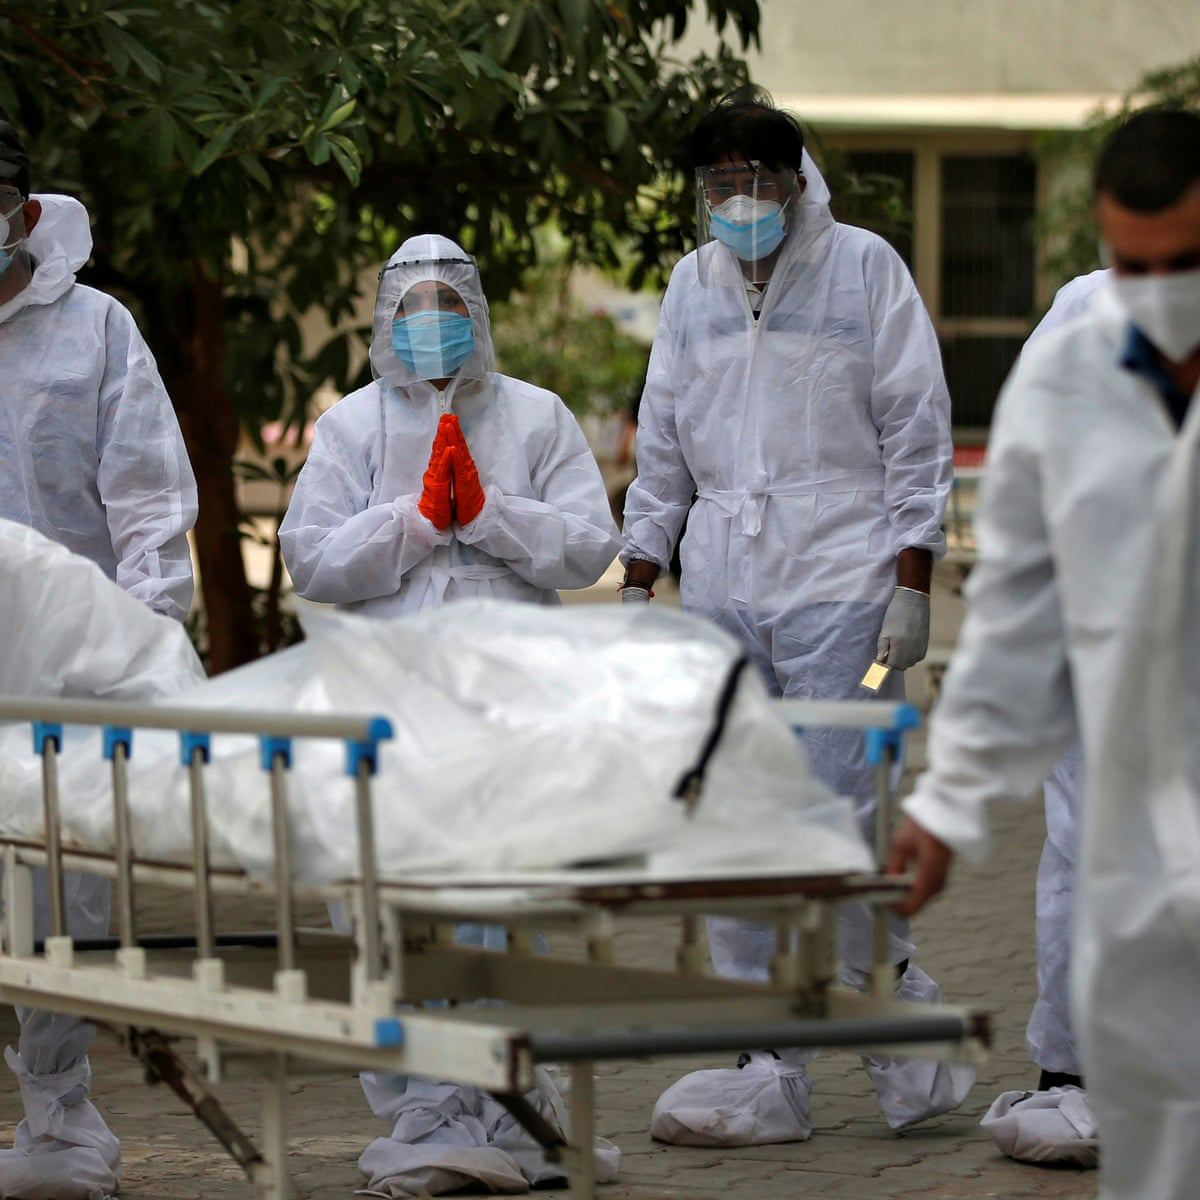Coverall: (666, 223, 943, 668), (293, 372, 592, 604), (1, 294, 191, 569)
Gloves: (417, 411, 493, 534), (876, 584, 937, 671)
with_mask: (386, 282, 477, 378), (705, 179, 789, 264)
